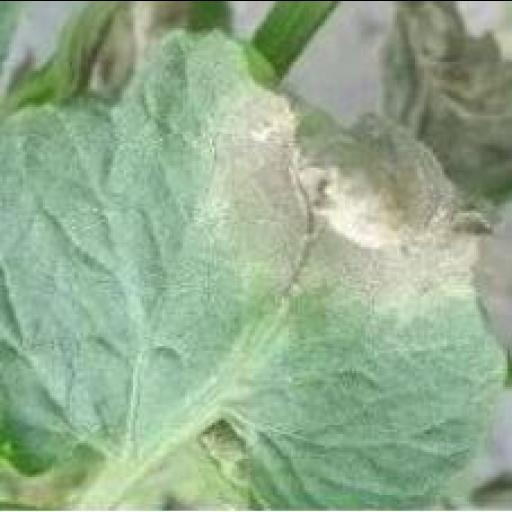disease_tomato: (0, 26, 512, 506)
